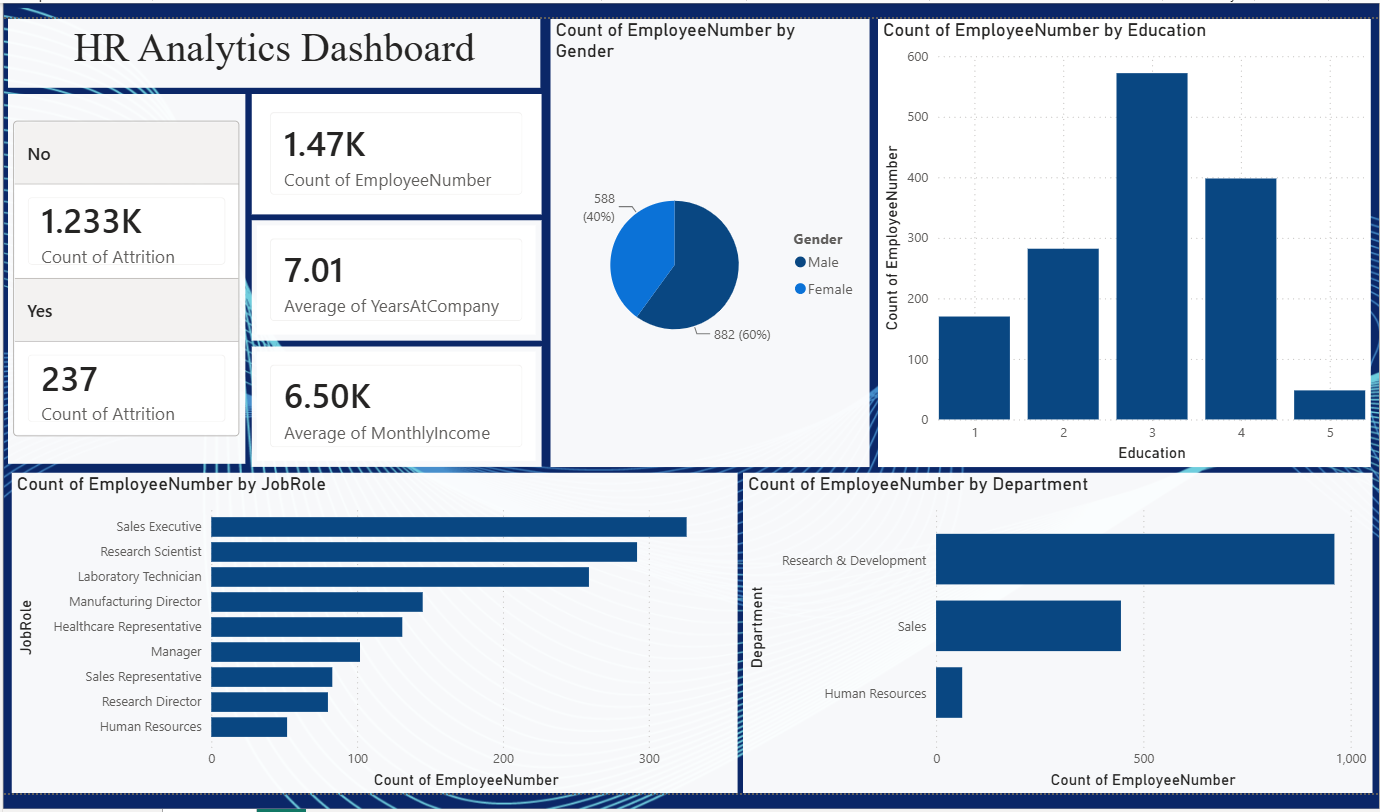

Layout of this report page (visuals, bound fields, positions):
{"tool":"powerbi","page":{"name":"Page 1","canvas":[1280,720],"ordinal":0},"visuals":[{"type":"cardVisual","fields":{"Data":["CountNonNull(cleaned_HR_Employee_Attrition.EmployeeNumber)"]},"box":[231.1,69.8,269.2,111.7],"z":0},{"type":"cardVisual","fields":{"Data":["CountNonNull(cleaned_HR_Employee_Attrition.Attrition)1"],"Rows":["cleaned_HR_Employee_Attrition.Attrition"]},"box":[5.1,69.8,221,344.1],"z":1000},{"type":"cardVisual","fields":{"Data":["Avg(cleaned_HR_Employee_Attrition.MonthlyIncome)"]},"box":[231.1,304.8,269.2,111.7],"z":2000},{"type":"cardVisual","fields":{"Data":["Avg(cleaned_HR_Employee_Attrition.YearsAtCompany)"]},"box":[231.1,186.7,269.2,111.7],"z":3000},{"type":"textbox","box":[4.7,0,495.4,64],"z":4000},{"type":"clusteredBarChart","fields":{"Category":["cleaned_HR_Employee_Attrition.Department"],"Y":["CountNonNull(cleaned_HR_Employee_Attrition.EmployeeNumber)"]},"box":[688.3,421.6,585.4,298.4],"z":5000},{"type":"pieChart","fields":{"Category":["cleaned_HR_Employee_Attrition.Gender"],"Y":["CountNonNull(cleaned_HR_Employee_Attrition.EmployeeNumber)"]},"box":[509.2,0,297.1,416.5],"z":6000},{"type":"clusteredBarChart","fields":{"Category":["cleaned_HR_Employee_Attrition.JobRole"],"Y":["CountNonNull(cleaned_HR_Employee_Attrition.EmployeeNumber)"]},"box":[7.6,421.6,675.6,298.4],"z":7000},{"type":"columnChart","fields":{"Y":["CountNonNull(cleaned_HR_Employee_Attrition.EmployeeNumber)"],"Category":["cleaned_HR_Employee_Attrition.Education"]},"box":[814,0,458.4,416.5],"z":8000}]}

Visuals, with their boxes in screenshot pixels (x1, y1, x2, y2):
cardVisual - CountNonNull(cleaned_HR_Employee_Attrition.EmployeeNumber): <region>249, 96, 536, 215</region>
cardVisual - CountNonNull(cleaned_HR_Employee_Attrition.Attrition)1 x cleaned_HR_Employee_Attrition.Attrition: <region>9, 96, 244, 462</region>
cardVisual - Avg(cleaned_HR_Employee_Attrition.MonthlyIncome): <region>249, 346, 536, 464</region>
cardVisual - Avg(cleaned_HR_Employee_Attrition.YearsAtCompany): <region>249, 220, 536, 339</region>
textbox: <region>9, 22, 535, 90</region>
clusteredBarChart - cleaned_HR_Employee_Attrition.Department x CountNonNull(cleaned_HR_Employee_Attrition.EmployeeNumber): <region>735, 470, 1358, 787</region>
pieChart - cleaned_HR_Employee_Attrition.Gender x CountNonNull(cleaned_HR_Employee_Attrition.EmployeeNumber): <region>545, 22, 861, 464</region>
clusteredBarChart - cleaned_HR_Employee_Attrition.JobRole x CountNonNull(cleaned_HR_Employee_Attrition.EmployeeNumber): <region>12, 470, 730, 787</region>
columnChart - CountNonNull(cleaned_HR_Employee_Attrition.EmployeeNumber) x cleaned_HR_Employee_Attrition.Education: <region>869, 22, 1356, 464</region>
